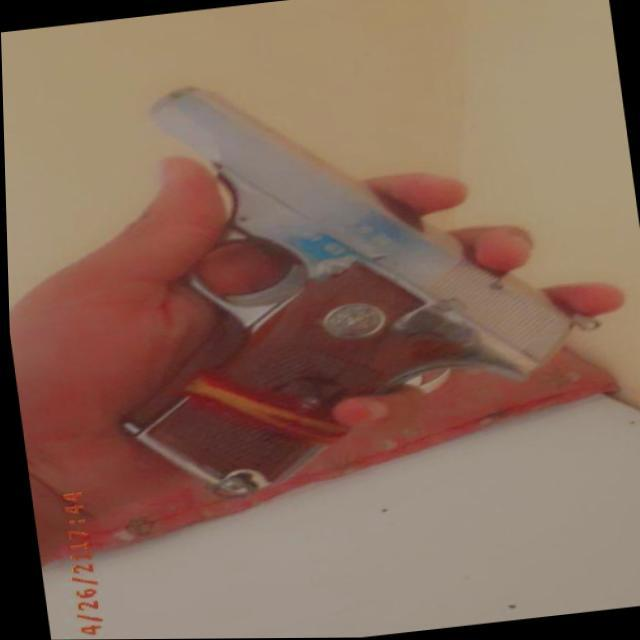weapon: (56, 34, 639, 519)
